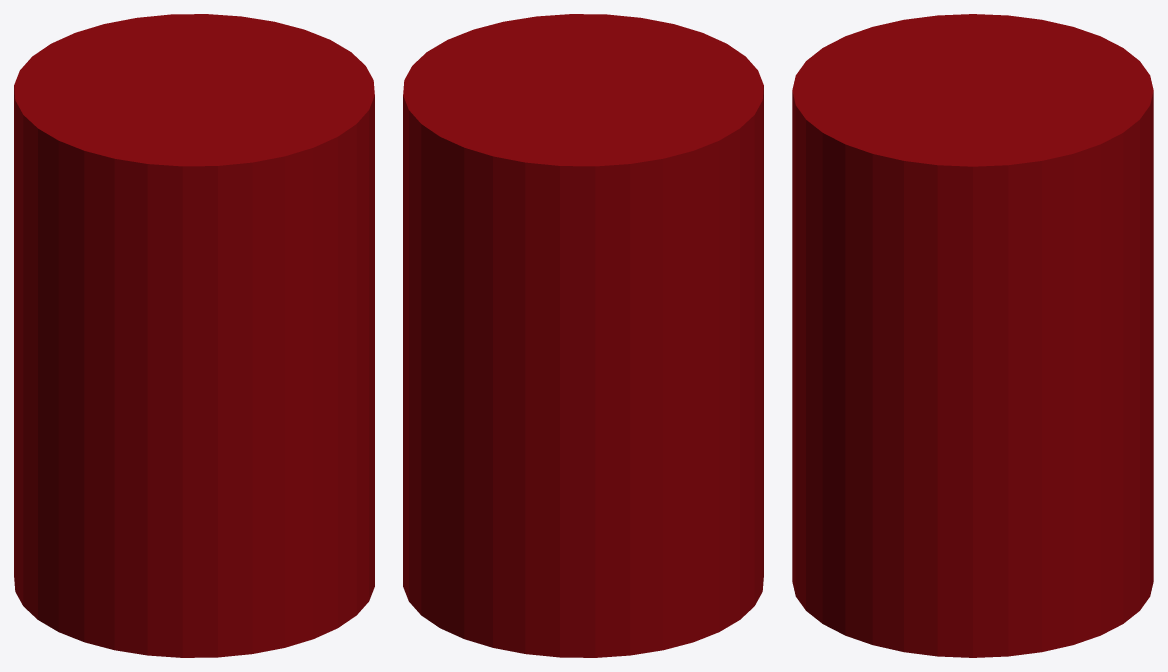
The model's file is Barrel.fbx.
The picture shows the model from 3 angles, left to right: view 1: azimuth 30°, elevation 25°; view 2: azimuth 150°, elevation 25°; view 3: azimuth 270°, elevation 25°; orthographic projection.
Visible parts, largest first — view 1: Barrel; view 2: Barrel; view 3: Barrel.
Part boxes in pixels (x1=…): Barrel: x1=14, y1=14, x2=374, y2=657; Barrel: x1=403, y1=14, x2=763, y2=657; Barrel: x1=792, y1=14, x2=1153, y2=657.
Bounding box in the file's own units: 200 × 300 × 200.
